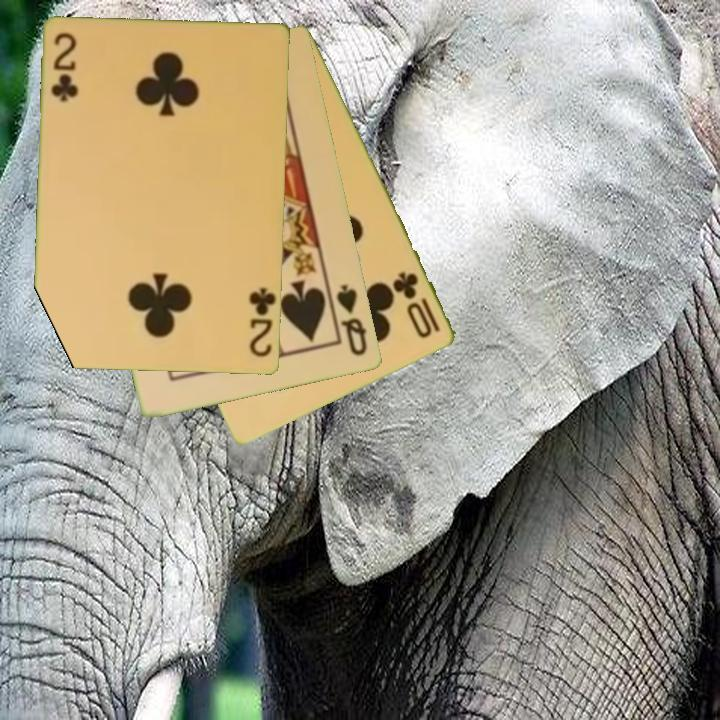10c: (390, 268, 444, 342)
2c: (246, 284, 278, 360), (48, 30, 79, 105)
Qs: (333, 281, 371, 359)
